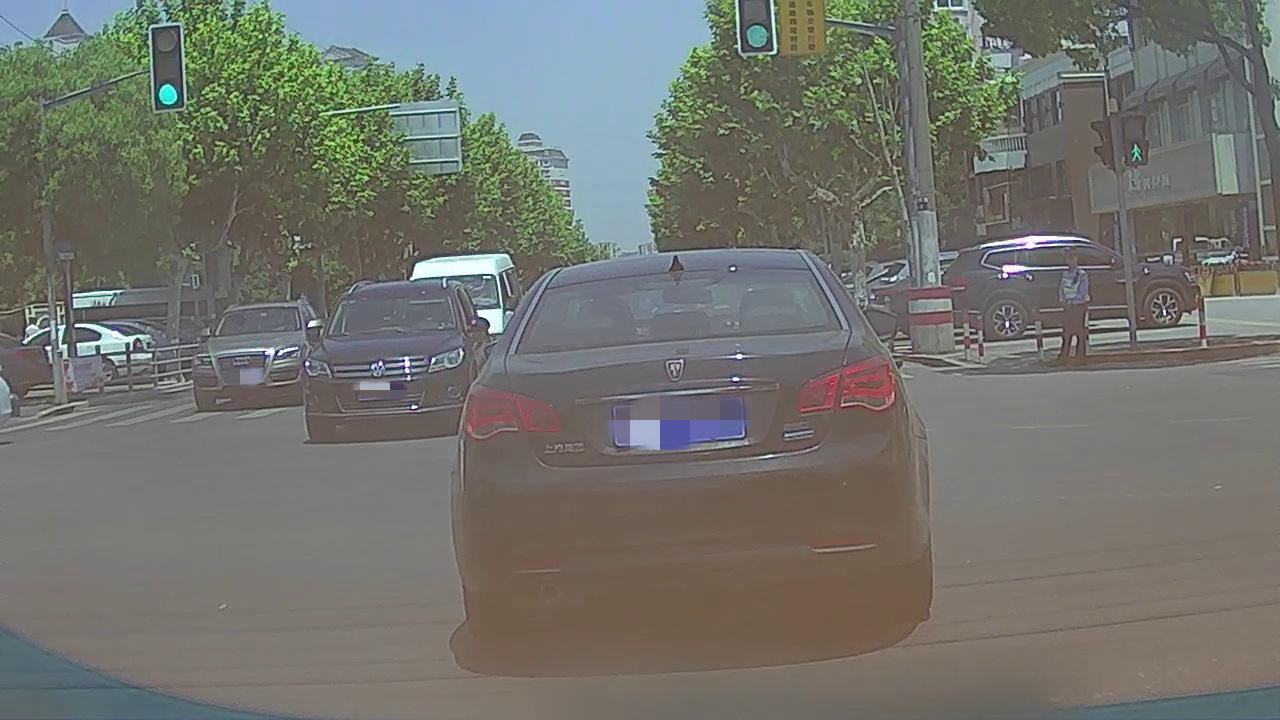traffic_light: (152, 27, 185, 108), (740, 2, 775, 53)
